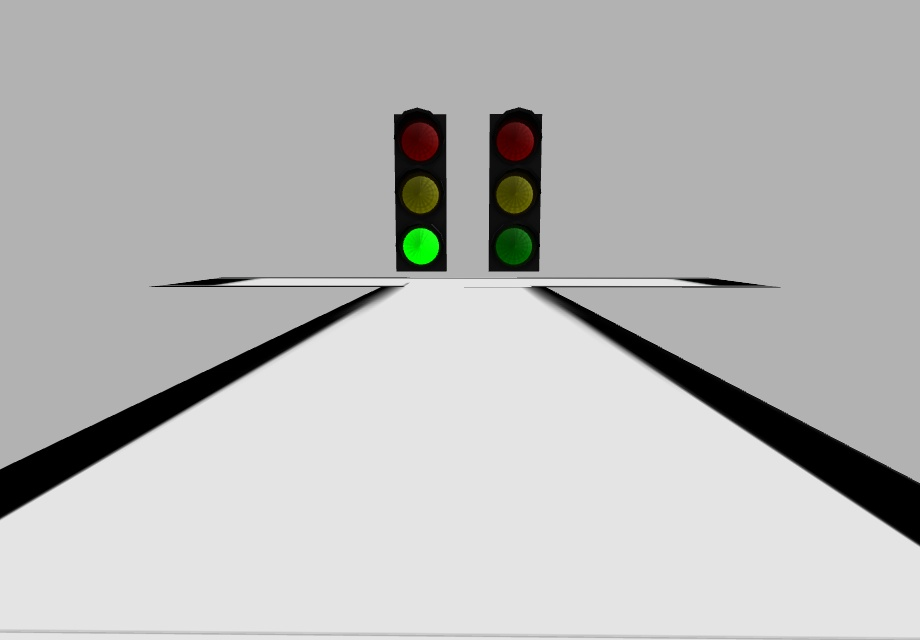green_off: (494, 228, 531, 269)
green_on: (401, 227, 440, 268)
